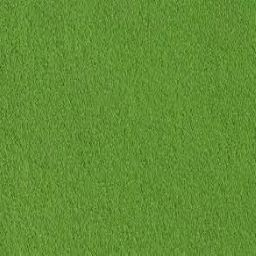grass: (4, 7, 250, 249)
